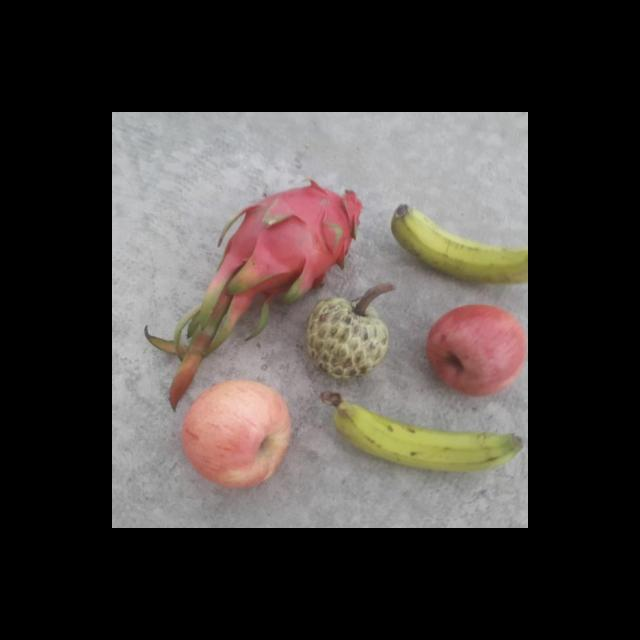Sakya fruit: (302, 294, 396, 377)
apple: (178, 374, 296, 486), (422, 301, 528, 399)
banana: (316, 386, 526, 478), (387, 195, 528, 289)
pitaya: (214, 178, 366, 316)
